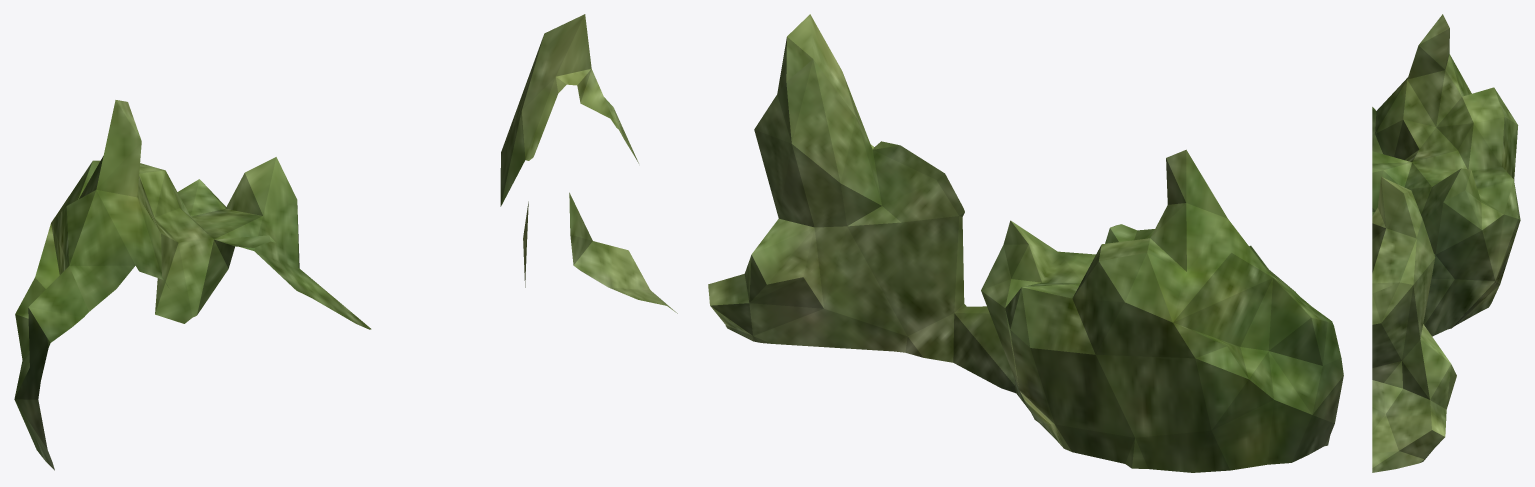
The picture shows the model from 3 angles, left to right: view 1: azimuth 30°, elevation 25°; view 2: azimuth 150°, elevation 25°; view 3: azimuth 270°, elevation 25°; orthographic projection. The views are drawn at different scales.
Bounding box in the file's own units: 3.85 × 1.86 × 0.9562.
Materials: 1 (1 with a texture image).
